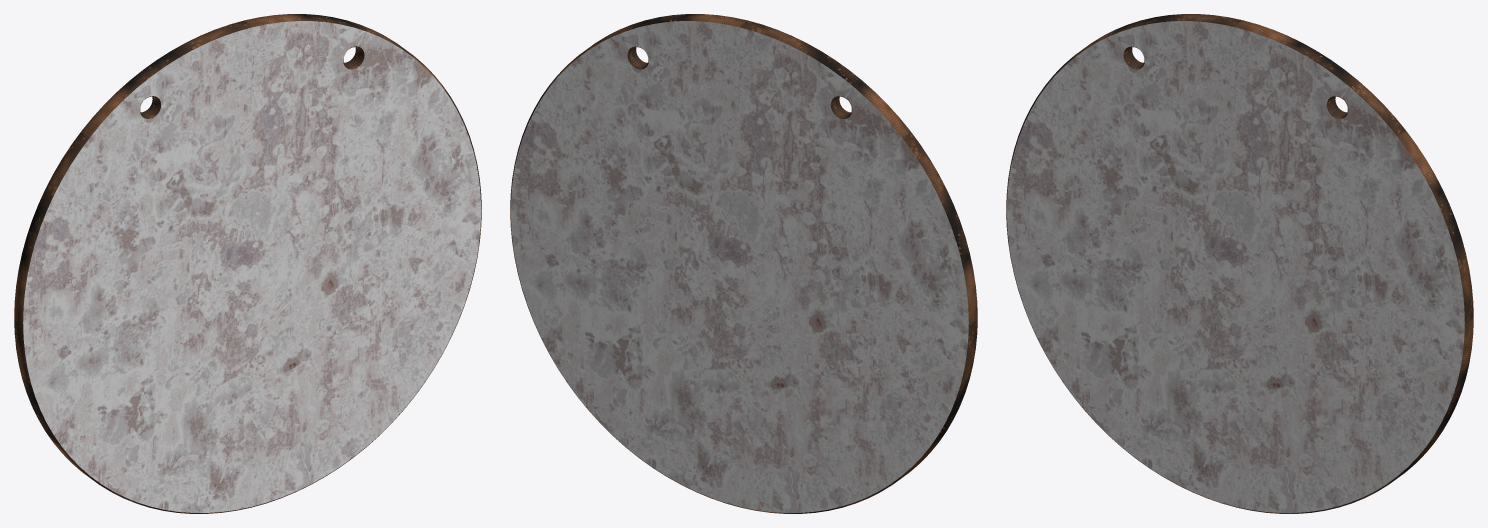
The model's file is plate_12.glb.
3 views of the same model, side by side, from view 1: azimuth 30°, elevation 25°; view 2: azimuth 150°, elevation 25°; view 3: azimuth 330°, elevation 25° (orthographic).
Visible parts, largest first — view 1: plate_12; view 2: plate_12; view 3: plate_12.
Boxes of the visible parts, <box> form: plate_12: <box>14,14,481,513</box>; plate_12: <box>510,14,977,513</box>; plate_12: <box>1006,14,1473,513</box>.
Bounding box in the file's own units: 0.3048 × 0.3048 × 0.00953.
3 materials, 3 textured.
